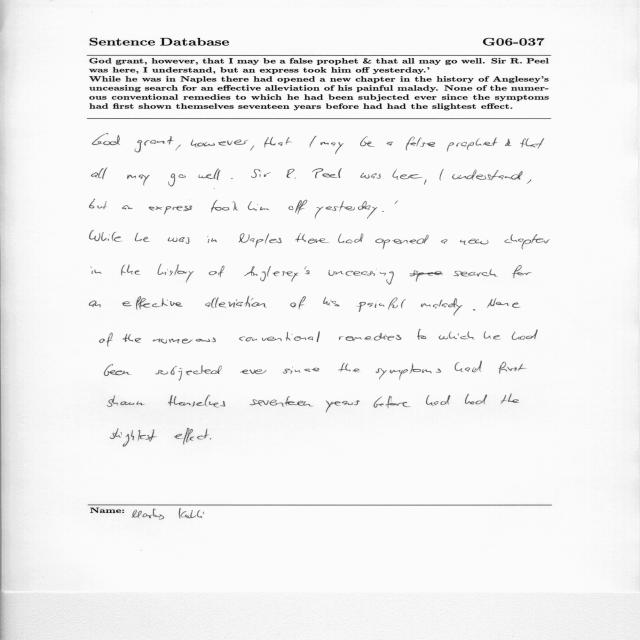word: (244, 266, 344, 282), (409, 269, 498, 282), (315, 201, 377, 219), (376, 363, 441, 380), (155, 365, 222, 381), (239, 331, 320, 342), (110, 429, 157, 447), (122, 296, 182, 310), (452, 170, 523, 181), (346, 269, 394, 285), (375, 235, 429, 249), (356, 297, 406, 312), (168, 395, 225, 408), (421, 298, 462, 316), (206, 296, 267, 308), (447, 138, 498, 152), (157, 264, 194, 283), (250, 396, 313, 407), (504, 234, 550, 249), (239, 233, 282, 248), (135, 136, 174, 152), (174, 428, 209, 445), (339, 333, 401, 341), (191, 140, 248, 148), (108, 395, 145, 407), (374, 396, 411, 408), (326, 400, 360, 413), (90, 230, 123, 242), (149, 206, 192, 215), (153, 338, 216, 344), (406, 137, 435, 150), (296, 233, 330, 244), (93, 133, 121, 145), (393, 169, 423, 180), (487, 298, 520, 308), (211, 200, 238, 212), (439, 331, 475, 340), (105, 364, 132, 376), (499, 362, 526, 374), (312, 168, 342, 178), (455, 361, 482, 372), (512, 329, 538, 340), (321, 142, 344, 154), (520, 138, 545, 149), (338, 233, 363, 244), (265, 137, 292, 147), (289, 200, 308, 214), (426, 395, 450, 406), (512, 265, 532, 278), (127, 175, 150, 186), (198, 169, 221, 180), (168, 174, 186, 187), (121, 265, 141, 276), (465, 394, 487, 404), (283, 368, 319, 374), (248, 201, 269, 211), (290, 297, 306, 310), (338, 363, 360, 372), (501, 394, 519, 405), (100, 333, 113, 347), (251, 169, 271, 178), (89, 199, 107, 209), (460, 239, 488, 245), (92, 168, 107, 179), (209, 266, 224, 277), (123, 334, 141, 343), (360, 136, 374, 147), (323, 297, 340, 306), (135, 232, 150, 242), (168, 237, 189, 244), (484, 332, 501, 340), (240, 369, 267, 374), (360, 173, 381, 179), (417, 329, 426, 340), (287, 169, 296, 179), (89, 301, 101, 308), (310, 136, 317, 147), (207, 236, 217, 243), (439, 169, 444, 180), (122, 205, 132, 210), (505, 139, 511, 146), (92, 270, 102, 274), (176, 144, 181, 151), (441, 239, 447, 244), (387, 142, 393, 146), (251, 146, 255, 151), (527, 180, 531, 184), (424, 179, 426, 185), (395, 201, 398, 205), (473, 309, 475, 311), (231, 178, 233, 179), (382, 211, 384, 212), (210, 438, 211, 440)
